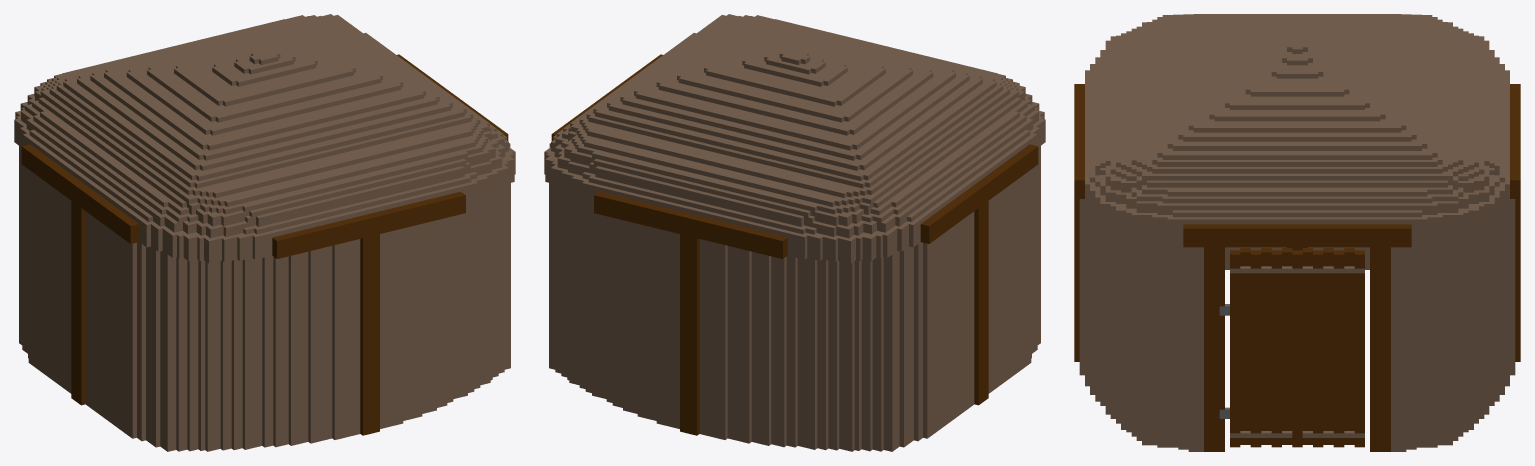
Rendered from EnemyHut.fbx.
3 views of the same model, side by side, from view 1: azimuth 30°, elevation 25°; view 2: azimuth 150°, elevation 25°; view 3: azimuth 270°, elevation 25° (orthographic). The views are drawn at different scales.
Parts seen in each view (by area): view 1: root; view 2: root; view 3: root.
Part boxes in pixels (left/top/right/bottom): root: left=14, top=14, right=515, bottom=451; root: left=544, top=14, right=1045, bottom=451; root: left=1074, top=14, right=1520, bottom=451.
Size of the model in its own units: 0.512 by 0.3898 by 0.5004.
Materials: 1 (1 with a texture image).
